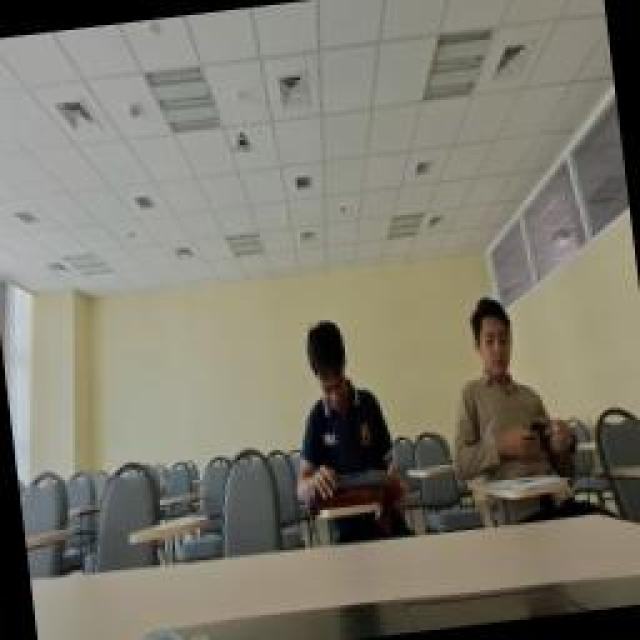phone: (438, 290, 580, 482)
study: (275, 308, 400, 510)
